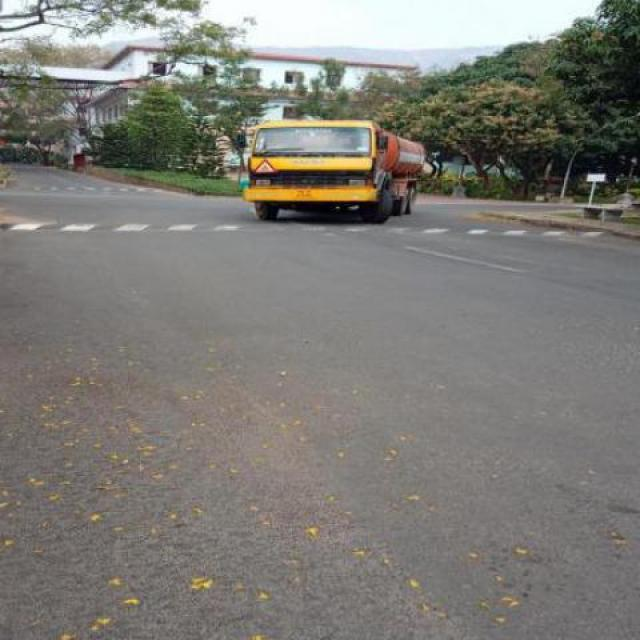Speed Bump: (0, 221, 615, 239), (17, 186, 164, 193)
